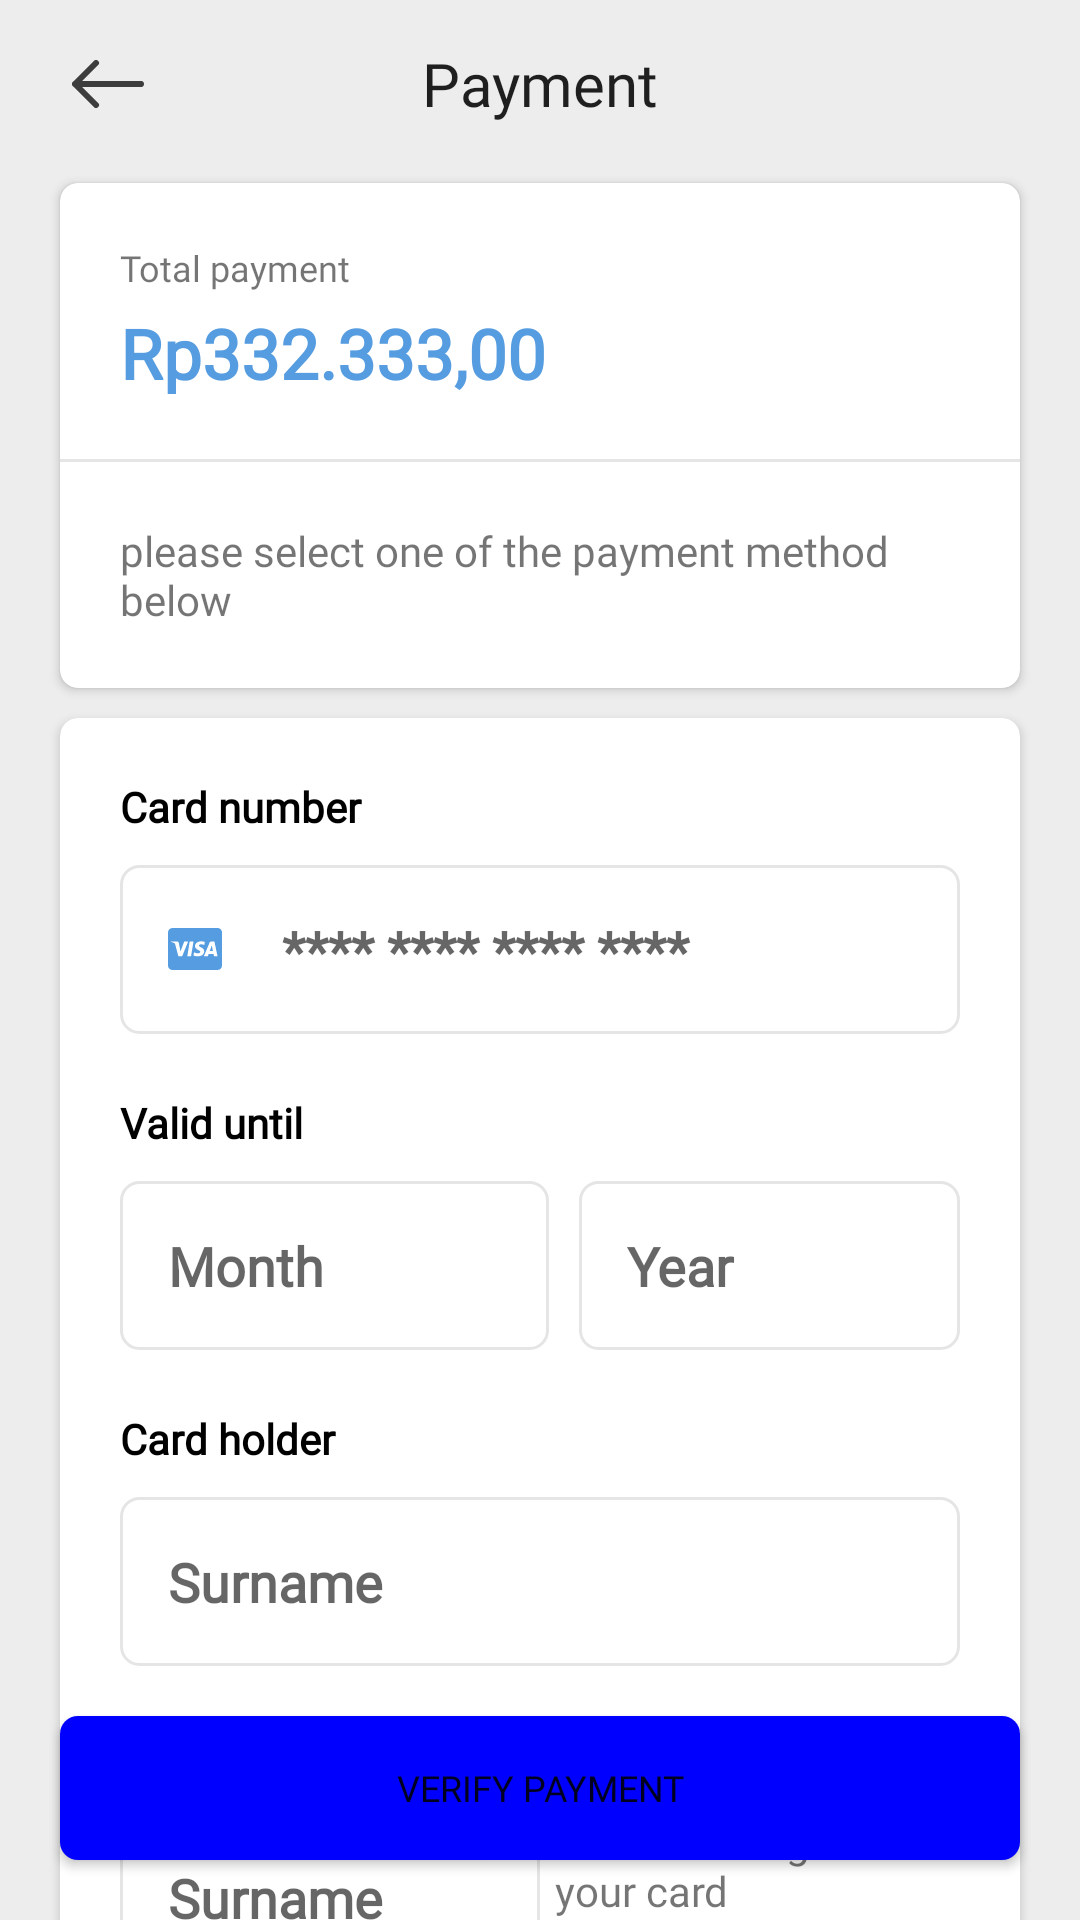

Icon click points for this 1080*1920 phone screenshot, format (x,y):
Back Button: (108,84)
